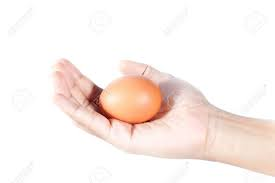egg: (100, 76, 161, 122)
